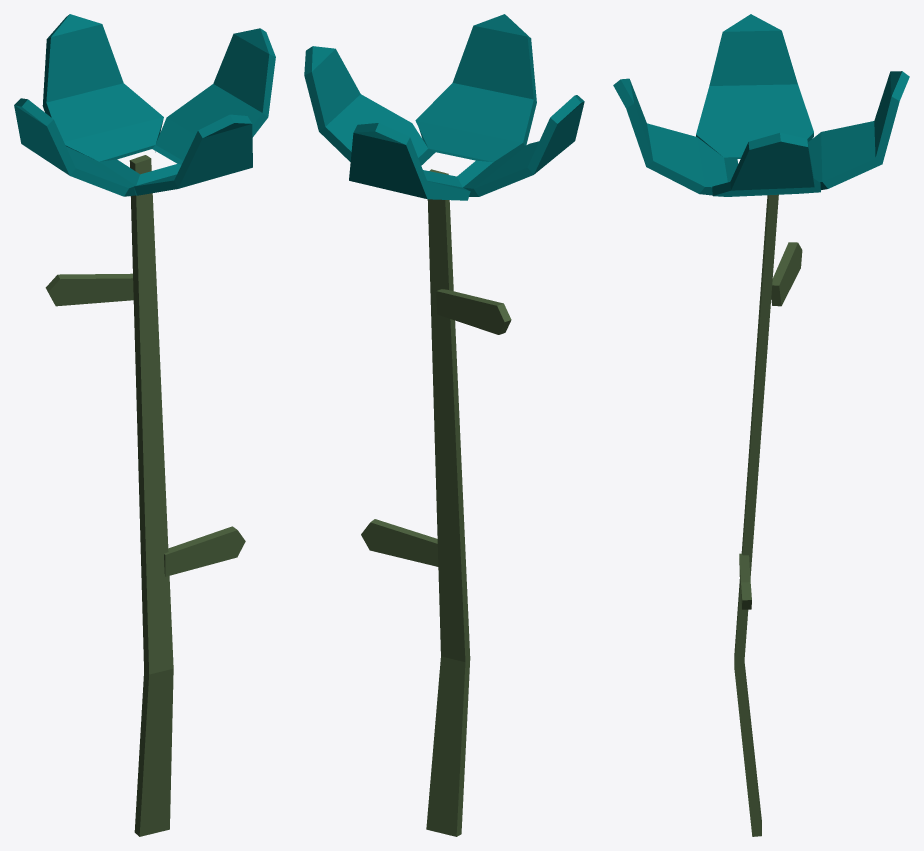
The model's file is flower_4.gltf.
3 renders of one model, left to right at view 1: azimuth 30°, elevation 25°; view 2: azimuth 150°, elevation 25°; view 3: azimuth 270°, elevation 25°, orthographic.
Visible parts, largest first — view 1: flower_4; view 2: flower_4; view 3: flower_4.
Part boxes in pixels (<box>): flower_4: <box>14,14,275,836</box>; flower_4: <box>304,14,584,836</box>; flower_4: <box>613,14,909,836</box>.
Bounding box in the file's own units: 0.2918 × 0.8209 × 0.2926.
1 material, 1 textured.
